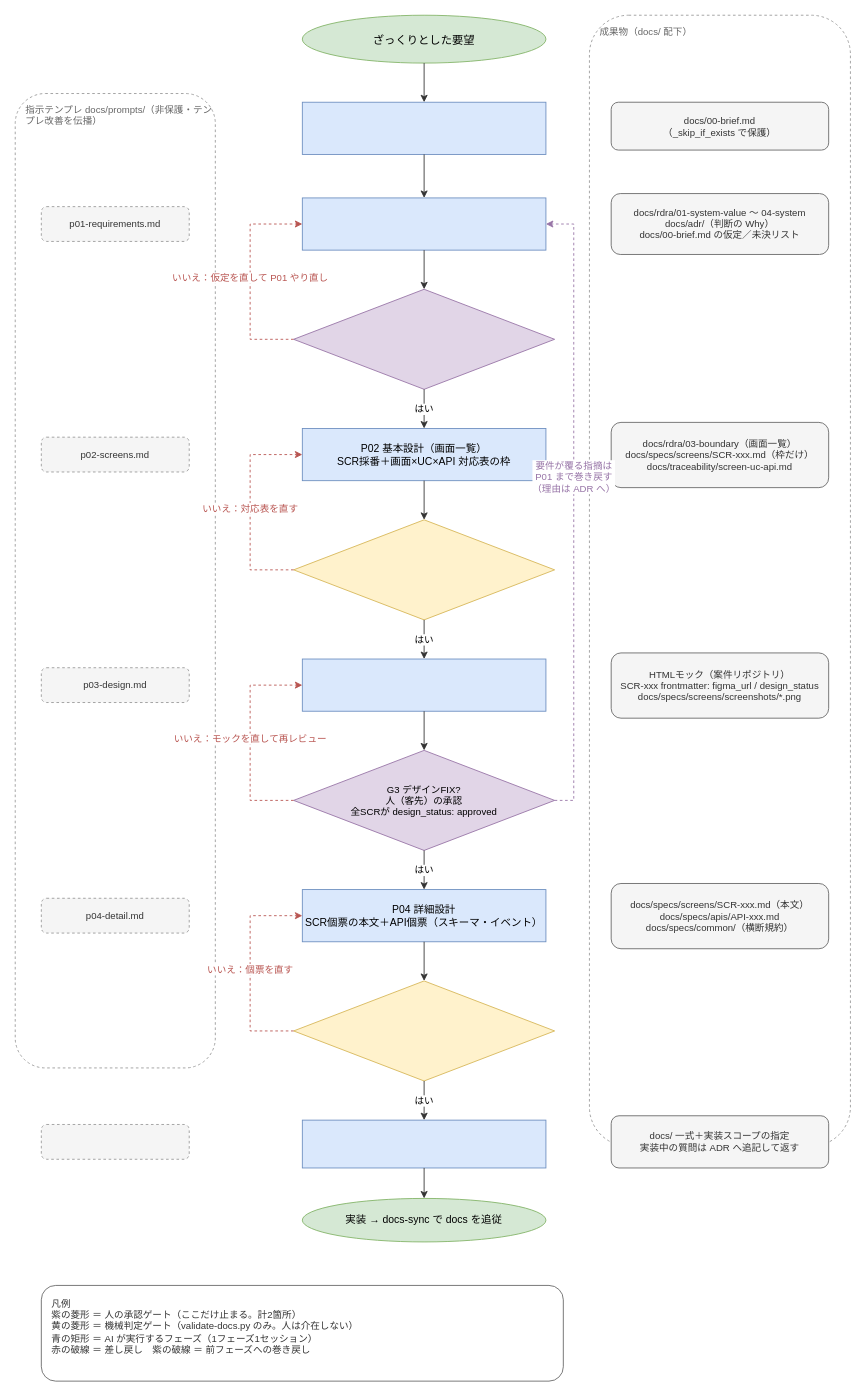
This 866x1396 diagram has some shape labels left out. Here are the shapes that lost their labels. From the top down, the centre of each, then its label:
point (423, 127): P00 ブリーフ記入（人） 目的・利用者・制約・確定／未確定の線引き
point (423, 223): P01 要件定義 RDRA 4層を起こす＋仮定／未決を明示
point (424, 338): G1 要件FIX? 人の承認 ＋ validator ERROR 0 ＋ UC一覧確定・未決が空でない
point (424, 569): G2 対応表の整合? 機械判定のみ（人の承認なし） SCR個票と対応表が双方向で一致
point (423, 684): P03 デザイン HTMLモック → 客先レビュー → FIX → Figma化
point (424, 1030): G4 詳細設計の整合? 機械判定のみ ID参照の dangling 0 ＋ ERROR 0
point (114, 1141): p05-handoff.md
point (423, 1143): P05 実装ハンドオフ 実装CLI へ（docs が唯一の入力）
